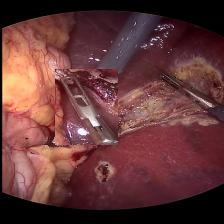Grasper: (54, 70, 116, 145), (156, 67, 219, 113)
